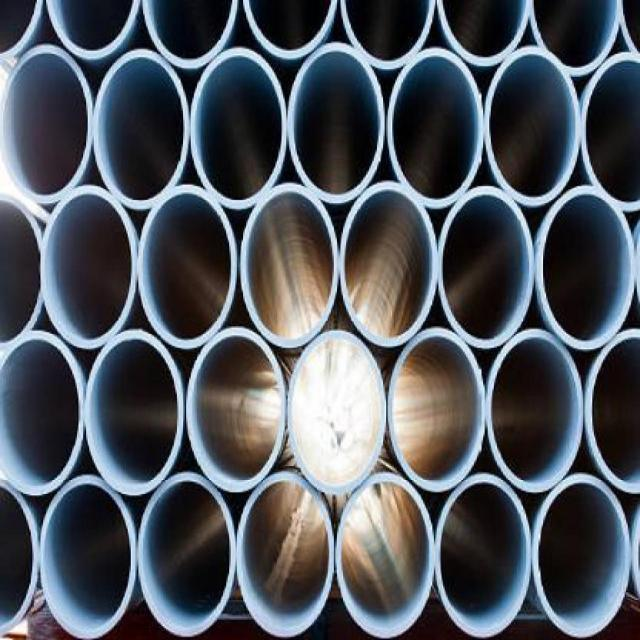pipe: (85, 329, 184, 497), (239, 183, 339, 349), (186, 327, 286, 493), (137, 471, 237, 637), (39, 184, 138, 351), (236, 471, 335, 638), (136, 185, 236, 350), (486, 328, 585, 493), (287, 330, 386, 495), (39, 475, 138, 640), (340, 182, 438, 347), (388, 326, 486, 491), (337, 471, 435, 636), (532, 473, 631, 636), (537, 186, 636, 348), (439, 186, 536, 348), (387, 48, 485, 208), (436, 475, 532, 637), (288, 42, 384, 204), (191, 47, 286, 209), (93, 49, 189, 209), (0, 43, 94, 206), (485, 46, 580, 206), (0, 331, 84, 497), (581, 51, 640, 213), (584, 328, 640, 494), (0, 194, 48, 352), (531, 0, 624, 78), (338, 0, 436, 69), (141, 0, 237, 69), (436, 0, 533, 68), (0, 479, 40, 637), (44, 0, 140, 60), (240, 0, 337, 58)
